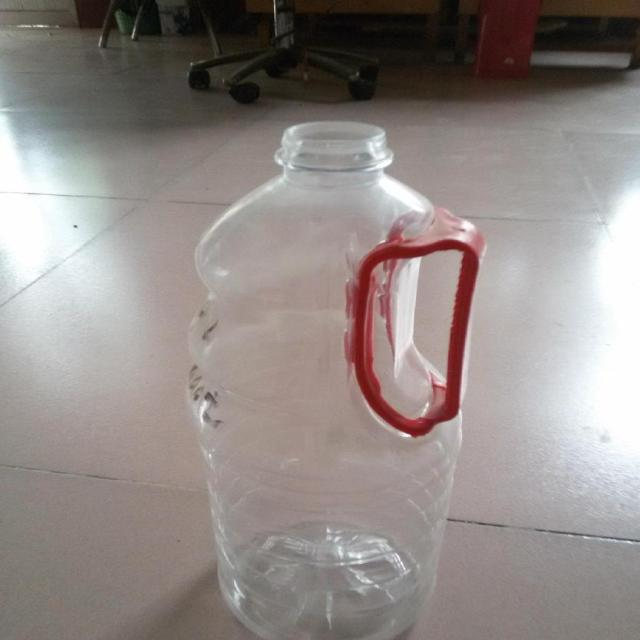-Recyclables - plastic bottle-: (194, 117, 484, 640)
